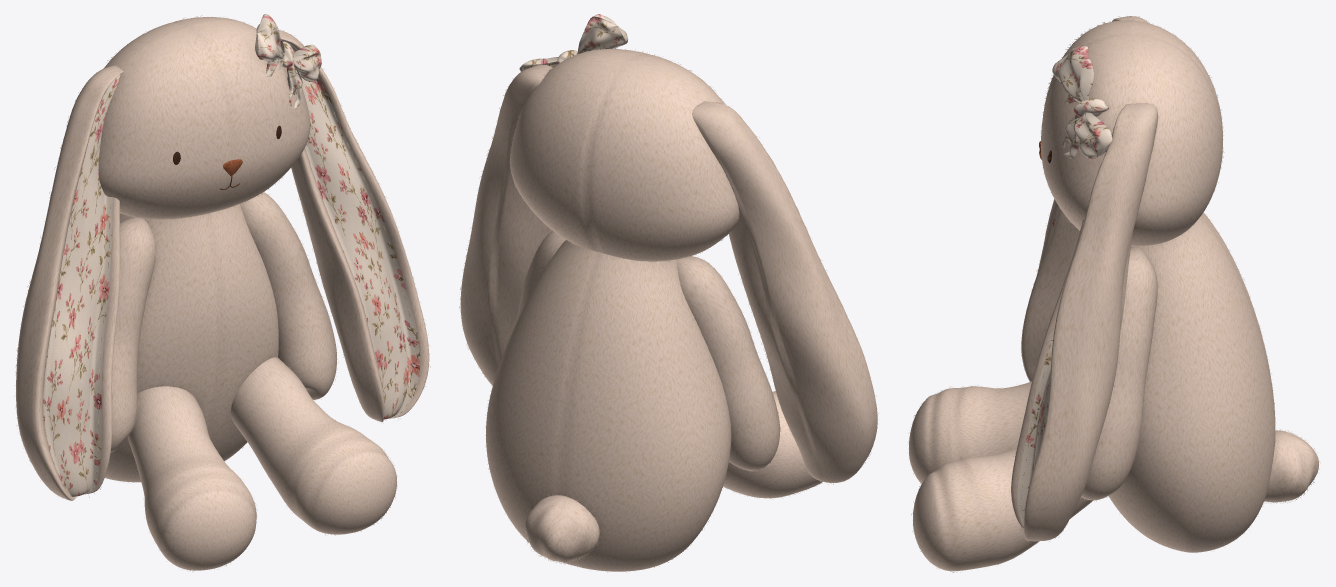
Rendered from plush-rabbit.glb.
The picture shows the model from 3 angles, left to right: view 1: azimuth 30°, elevation 25°; view 2: azimuth 150°, elevation 25°; view 3: azimuth 270°, elevation 25°; orthographic projection. The views are drawn at different scales.
Parts seen in each view (by area): view 1: Head · forehead and cheeks, Left ear · two sewn panels, Right ear · two sewn panels, Body · seated pear shape, Right · foot and bent leg, Left · foot and bent leg, Right · stuffed arm, Left · stuffed arm, Groom · individual short fibers, Bow · left folded loop, Bow · right folded loop; view 2: Body · seated pear shape, Head · forehead and cheeks, Left ear · two sewn panels, Right ear · two sewn panels, Left · stuffed arm, Groom · individual short fibers, Tail · plush tuft, Left · foot and bent leg, Bow · left folded loop, Right · stuffed arm; view 3: Body · seated pear shape, Right ear · two sewn panels, Head · forehead and cheeks, Right · foot and bent leg, Right · stuffed arm, Left · foot and bent leg, Groom · individual short fibers, Left ear · two sewn panels, Tail · plush tuft, Bow · left folded loop, Bow · right folded loop.
Boxes of the visible parts, x1,y1,x2,y2 form: Head · forehead and cheeks: [98, 17, 310, 219]; Left ear · two sewn panels: [16, 65, 123, 500]; Right ear · two sewn panels: [279, 30, 429, 421]; Body · seated pear shape: [104, 204, 278, 482]; Right · foot and bent leg: [230, 357, 396, 534]; Left · foot and bent leg: [127, 386, 256, 570]; Right · stuffed arm: [240, 192, 336, 399]; Left · stuffed arm: [110, 217, 156, 452]; Groom · individual short fibers: [14, 15, 430, 571]; Bow · left folded loop: [255, 14, 284, 62]; Bow · right folded loop: [293, 44, 321, 81]; Body · seated pear shape: [486, 240, 731, 571]; Head · forehead and cheeks: [510, 49, 739, 261]; Left ear · two sewn panels: [692, 101, 877, 482]; Right ear · two sewn panels: [460, 64, 552, 385]; Left · stuffed arm: [676, 256, 780, 471]; Groom · individual short fibers: [459, 47, 878, 572]; Tail · plush tuft: [525, 495, 599, 562]; Left · foot and bent leg: [723, 391, 822, 498]; Bow · left folded loop: [577, 14, 627, 54]; Right · stuffed arm: [514, 230, 565, 328]; Body · seated pear shape: [1108, 212, 1275, 552]; Right ear · two sewn panels: [1011, 102, 1157, 541]; Head · forehead and cheeks: [1041, 20, 1222, 245]; Right · foot and bent leg: [913, 448, 1093, 571]; Right · stuffed arm: [1081, 247, 1157, 500]; Left · foot and bent leg: [909, 381, 1031, 483]; Groom · individual short fibers: [908, 16, 1320, 572]; Left ear · two sewn panels: [1021, 16, 1148, 381]; Tail · plush tuft: [1264, 430, 1318, 502]; Bow · left folded loop: [1052, 46, 1093, 102]; Bow · right folded loop: [1073, 112, 1112, 158].
Size of the model in its own units: 0.2614 by 0.3011 by 0.221.
Materials: 9 (2 with a texture image).
